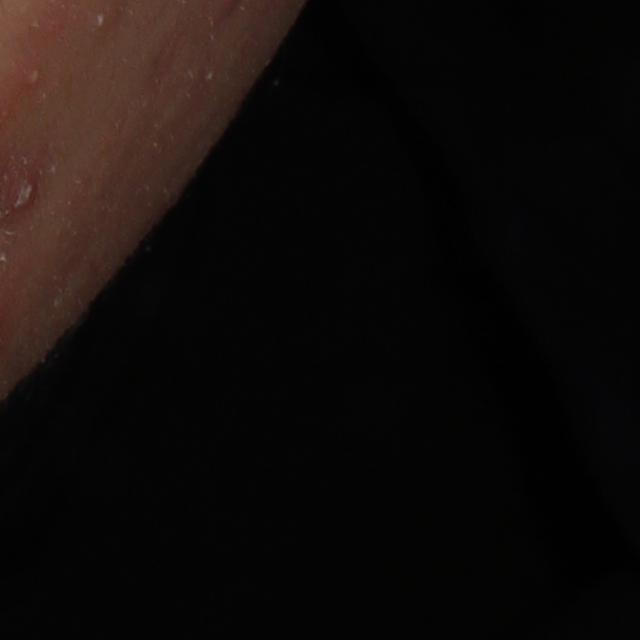pustule: (19, 60, 47, 91)
